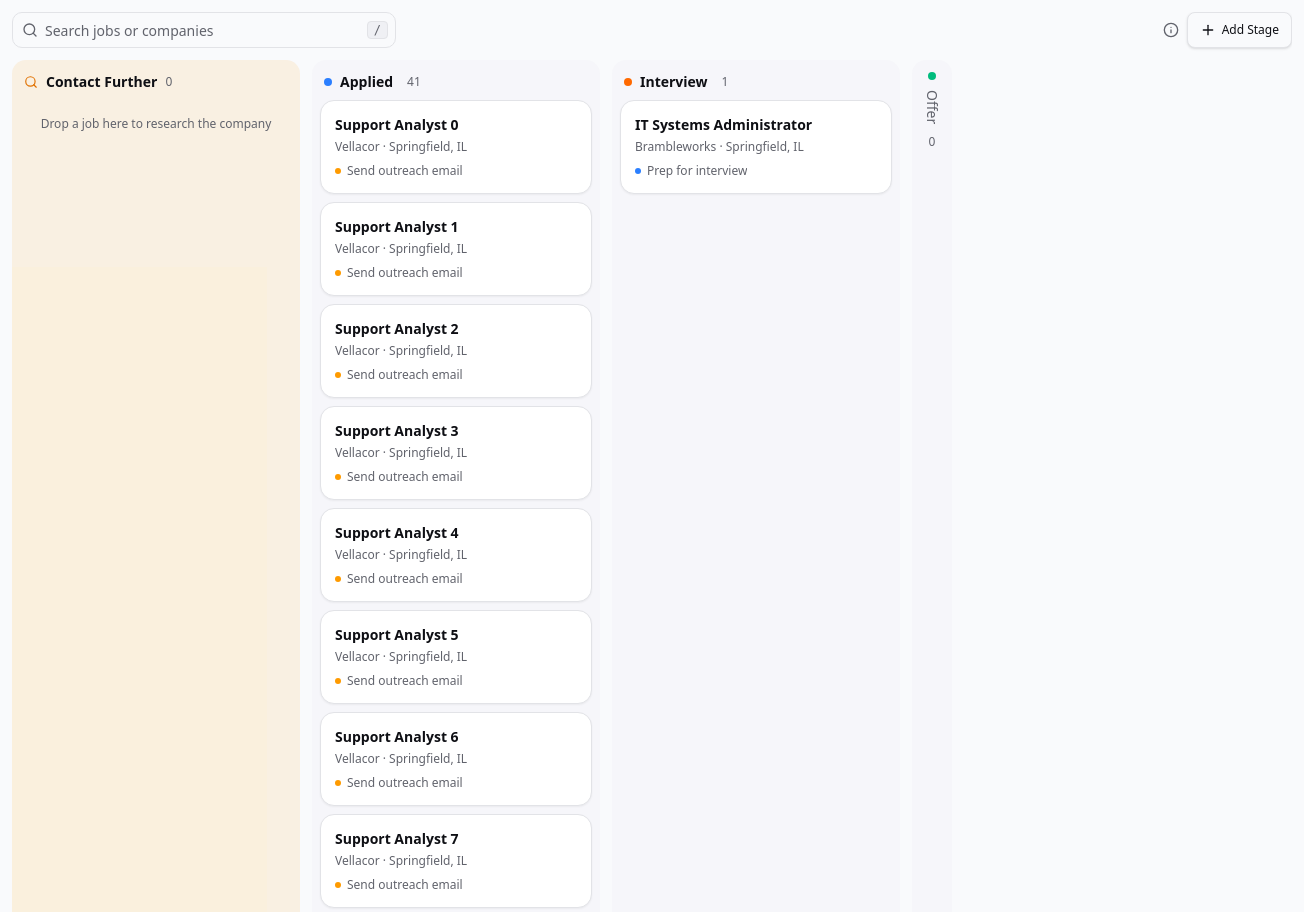
Test: KanbanBoard › says so when nothing matches
In the field named "Search the board": (204, 30) x1=12 y1=12 x2=396 y2=48, type "zzzz"
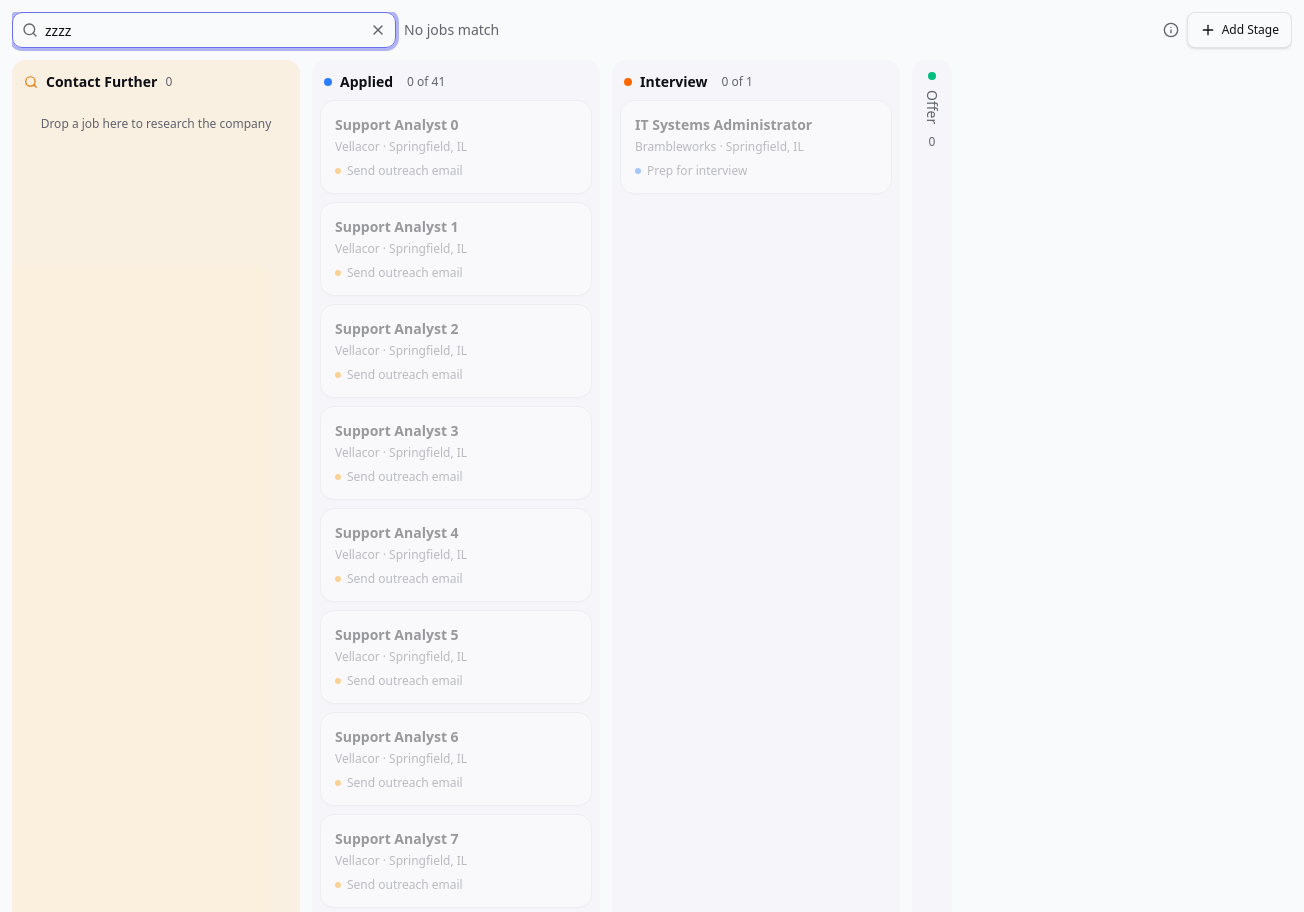
Expected: the text "No jobs match" is shown, x1=404 y1=20 x2=499 y2=40
